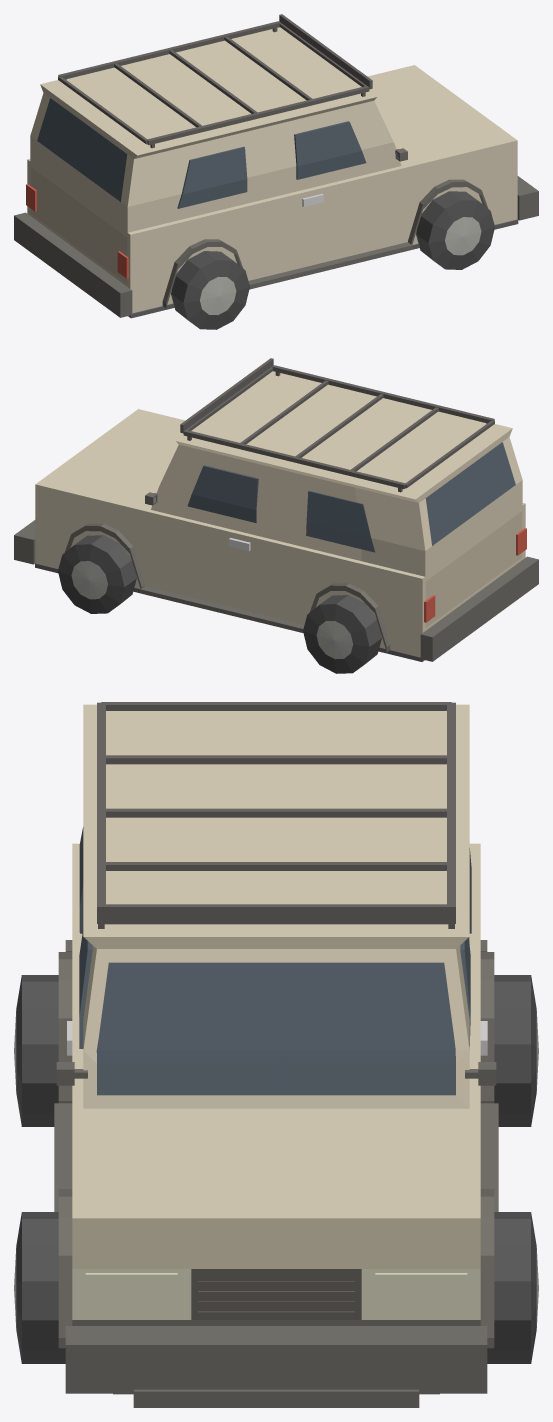
The model's file is suvv.fbx.
The picture shows the model from 3 angles, top to bottom: view 1: azimuth 30°, elevation 25°; view 2: azimuth 150°, elevation 25°; view 3: azimuth 270°, elevation 25°; orthographic projection. The views are drawn at different scales.
Parts seen in each view (by area): view 1: SUV.002, TIRE2, TIRE1; view 2: SUV.002, TIRE4, TIRE3; view 3: SUV.002, TIRE1, TIRE3, TIRE2, TIRE4.
Boxes of the visible parts, x1,y1,x2,y2 form: SUV.002: [14, 14, 538, 318]; TIRE2: [171, 251, 249, 329]; TIRE1: [416, 191, 494, 269]; SUV.002: [14, 358, 538, 661]; TIRE4: [303, 595, 381, 673]; TIRE3: [58, 535, 136, 613]; SUV.002: [54, 702, 498, 1407]; TIRE1: [14, 1212, 65, 1363]; TIRE3: [487, 1212, 538, 1363]; TIRE2: [14, 975, 58, 1126]; TIRE4: [494, 975, 538, 1126].
Size of the model in its own units: 429 by 188 by 234.
